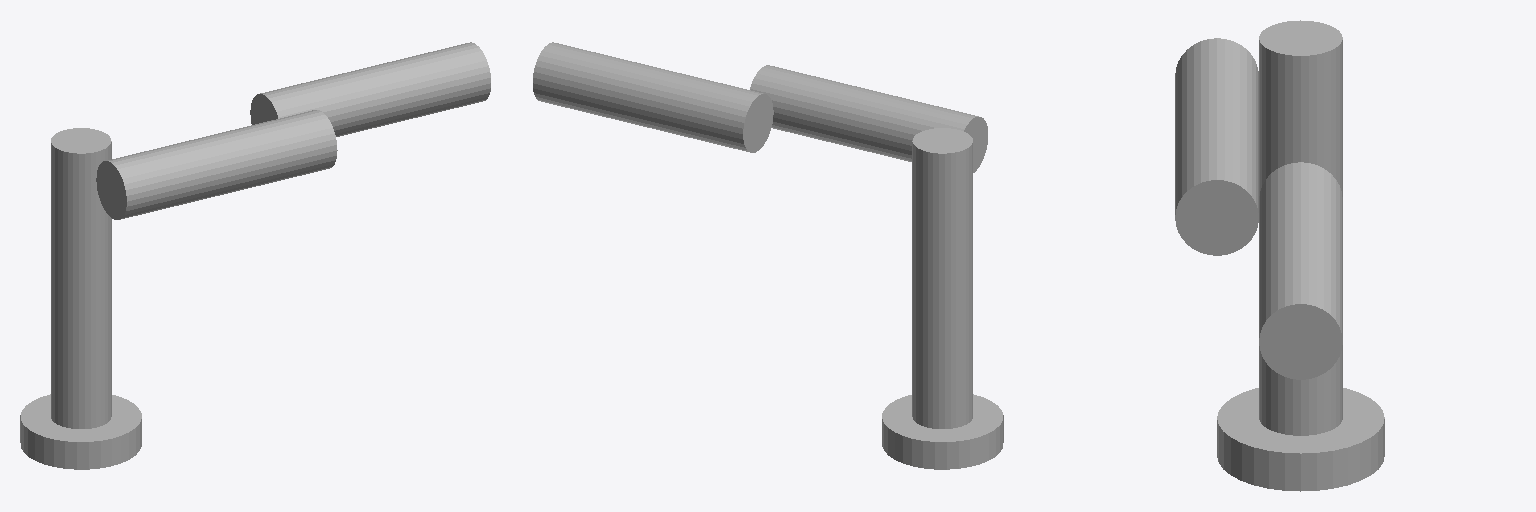
The robot description file, URDF, robot "pinchy":
<robot name="pinchy">
  <material name="silver">
    <color rgba="0.75 0.75 0.75 1"/>
  </material>

  <link name="world"/>
  <link name="base_link">
    <visual>
      <geometry>
        <cylinder length="0.05" radius="0.1"/>
      </geometry>
      <material name="silver"/>
      <origin xyz="0 0 0.025"/>
    </visual>
  </link>
  <joint name="world_to_base_link" type="fixed">
    <parent link="world"/>
    <child link="base_link"/>
  </joint>
  <link name="torso">
    <visual>
      <geometry>
        <cylinder length="0.5" radius="0.05"/>
      </geometry>
      <material name="silver"/>
      <origin xyz="0 0 0.25"/>
    </visual>
  </link>
  <joint name="base_link_to_torso" type="continuous">
    <axis xyz="0 0 1"/>
    <parent link="base_link"/>
    <child link="torso"/>
    <origin rpy="0 0 0" xyz="0 0 0.05"/>
  </joint>
  <link name="upper_arm">
    <visual>
      <geometry>
        <cylinder length="0.4" radius="0.05"/>
      </geometry>
      <material name="silver"/>
      <origin xyz="0 0 0.2"/>
    </visual>
  </link>
  <joint name="torso_to_upper_arm" type="continuous">
    <axis xyz="0 1 0"/>
    <parent link="torso"/>
    <child link="upper_arm"/>
    <origin rpy="0 1.5708 0" xyz="0 -0.1 0.45"/>
  </joint>
  <link name="lower_arm">
    <visual>
      <geometry>
        <cylinder length="0.4" radius="0.05"/>
      </geometry>
      <material name="silver"/>
      <origin xyz="0 0 0.2"/>
    </visual>
  </link>
  <joint name="upper_arm_to_lower_arm" type="continuous">
    <axis xyz="0 1 0"/>
    <parent link="upper_arm"/>
    <child link="lower_arm"/>
    <origin rpy="0 0 0" xyz="0 0.1 0.35"/>
  </joint>
</robot>

--- Facts derived from the render (not from the file) ---
The picture shows the robot from 3 angles, left to right: view 1: azimuth 30°, elevation 25°; view 2: azimuth 150°, elevation 25°; view 3: azimuth 270°, elevation 25°; orthographic projection.
Model pinchy with 5 links and 4 joints (3 continuous, 1 fixed), rooted at world, posed all joints at 0.
Links seen in each view (by area): view 1: torso, upper_arm, lower_arm, base_link; view 2: torso, lower_arm, upper_arm, base_link; view 3: torso, upper_arm, lower_arm, base_link.
Boxes of the visible links, bbox=[...] form: torso: bbox=[51, 128, 111, 428]; upper_arm: bbox=[96, 110, 337, 219]; lower_arm: bbox=[250, 42, 490, 136]; base_link: bbox=[20, 394, 141, 469]; torso: bbox=[912, 128, 972, 428]; lower_arm: bbox=[533, 42, 773, 152]; upper_arm: bbox=[750, 65, 987, 172]; base_link: bbox=[882, 394, 1003, 469]; torso: bbox=[1259, 20, 1342, 435]; upper_arm: bbox=[1175, 38, 1258, 255]; lower_arm: bbox=[1259, 162, 1342, 379]; base_link: bbox=[1217, 388, 1384, 491].
Size in the robot's own frame: 0.85 by 0.25 by 0.55 metres.
Geometry: primitives only (box / cylinder / sphere), no mesh files.